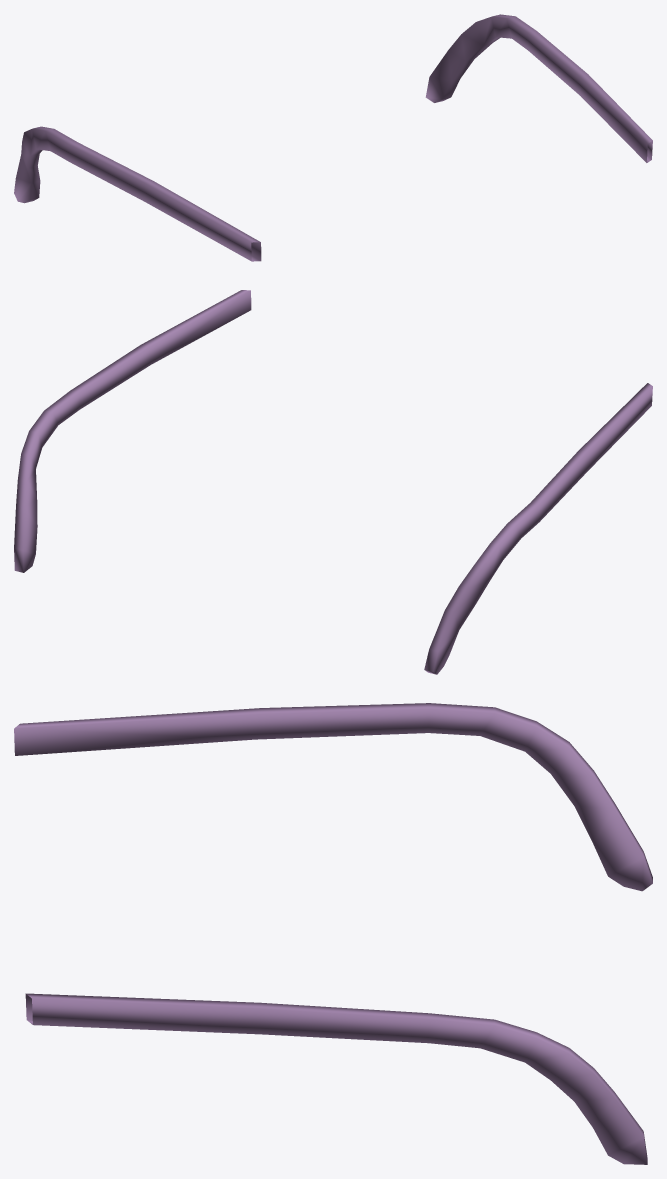
Rendered from frame.obj.
3 views of the same model, one above another, from view 1: azimuth 30°, elevation 25°; view 2: azimuth 150°, elevation 25°; view 3: azimuth 270°, elevation 25° (orthographic). The views are drawn at different scales.
Visible parts, largest first — view 1: klienerglasses_reference.001; view 2: klienerglasses_reference.001; view 3: klienerglasses_reference.001.
Part boxes in pixels (left/top/right/bottom): klienerglasses_reference.001: left=14, top=14, right=652, bottom=261; klienerglasses_reference.001: left=14, top=290, right=652, bottom=674; klienerglasses_reference.001: left=14, top=703, right=652, bottom=1164.
Size of the model in its own units: 6.59 by 1.64 by 5.59.
